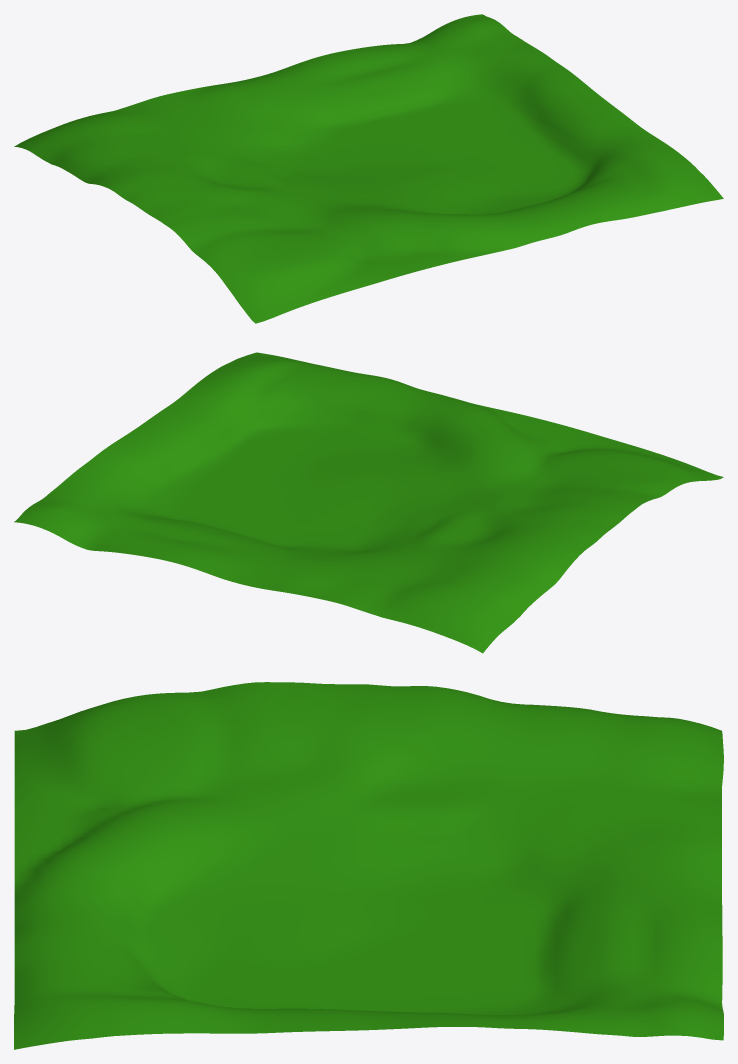
The model's file is Ground.fbx.
3 renders of one model, top to bottom at view 1: azimuth 30°, elevation 25°; view 2: azimuth 150°, elevation 25°; view 3: azimuth 270°, elevation 25°, orthographic. The views are drawn at different scales.
Parts seen in each view (by area): view 1: Ground; view 2: Ground; view 3: Ground.
Part boxes in pixels (x1,y1,x2,y2): Ground: [14, 14, 723, 323]; Ground: [14, 352, 723, 653]; Ground: [14, 682, 723, 1049].
Bounding box in the file's own units: 113 × 7.73 × 100.
